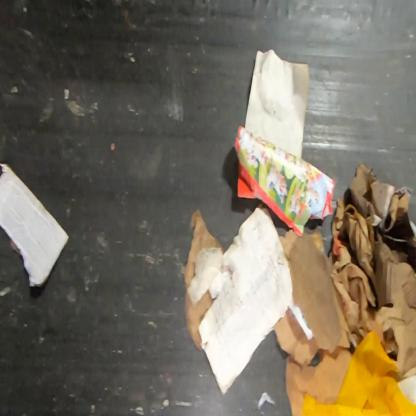cardboard: (197, 201, 315, 398), (0, 162, 70, 289), (244, 48, 311, 161), (284, 344, 354, 415), (348, 162, 414, 235), (272, 310, 319, 368), (236, 174, 262, 200)
soft_plastic: (186, 246, 224, 306)
